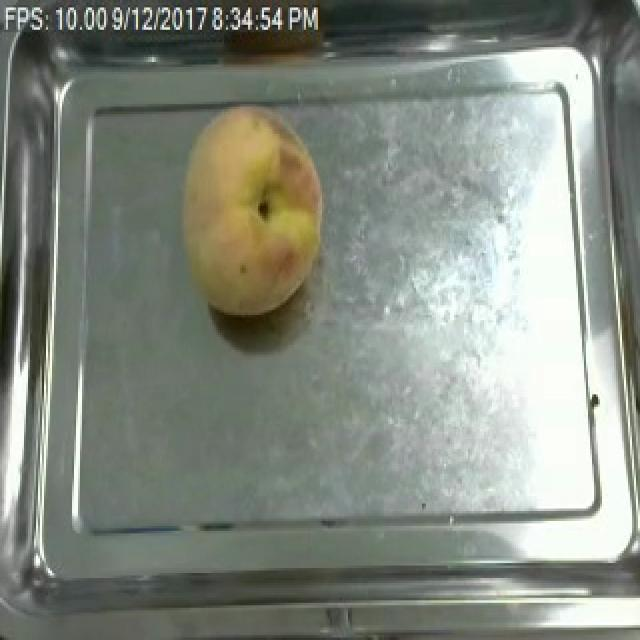Fruit: (172, 101, 334, 322)
